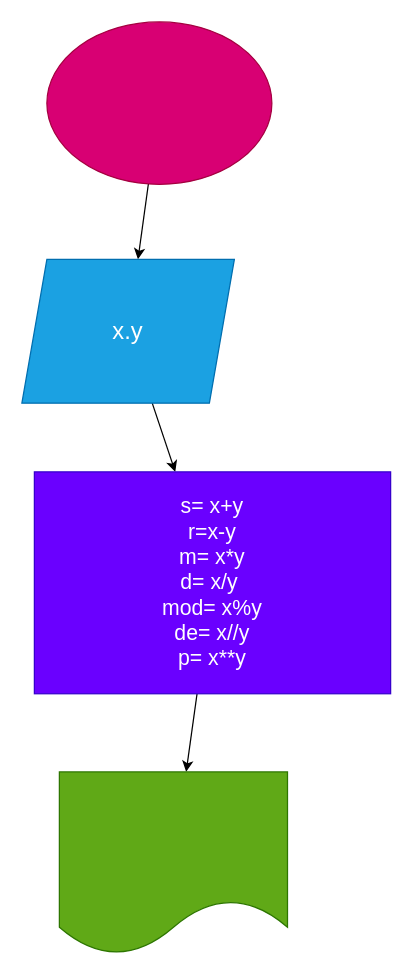
The diagram is 413 pixels wide and 978 high, and some of its shapes have lost their labels. The shapes that lost their labels are listed below. From the top down, each one's box as (x1, y1, x2, y2) in pixels, then its label:
(46, 21, 272, 184): INICIO
(58, 771, 288, 955): s, r, m, d, mod, de, p
